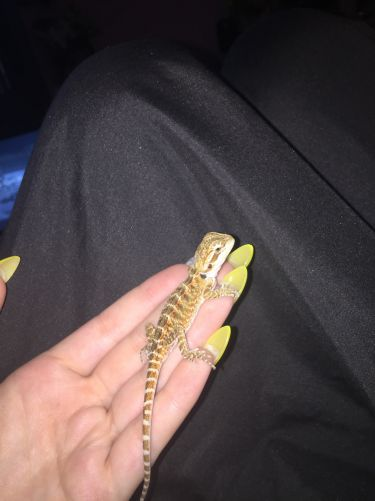bearded: (134, 229, 241, 501)
